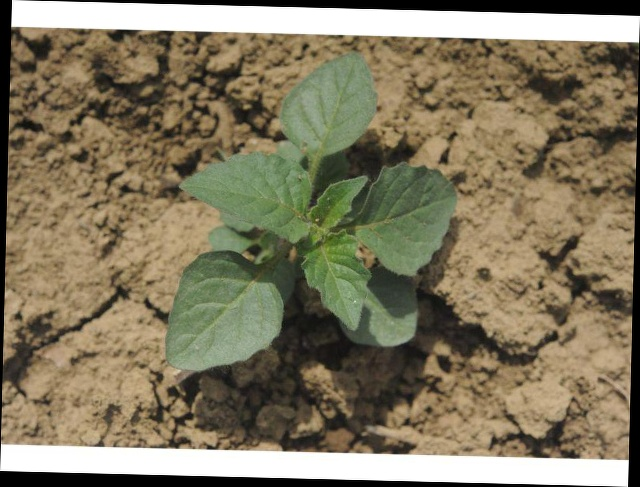nightshade: (168, 49, 456, 374)
